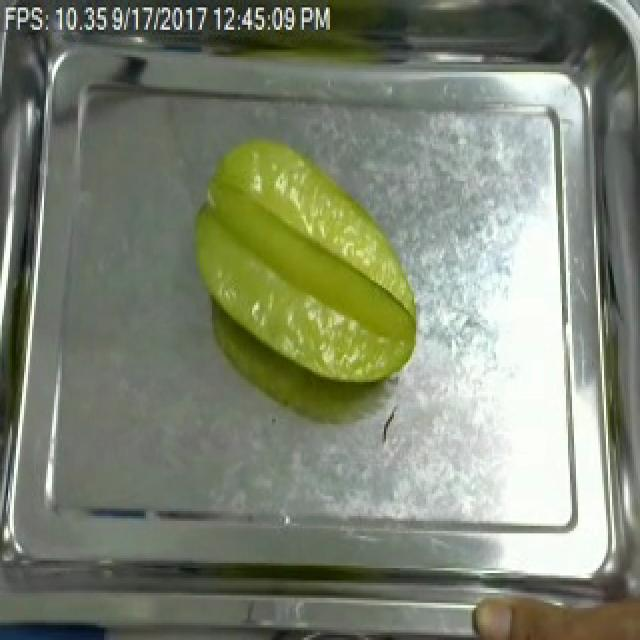fruit: (180, 131, 426, 397), (464, 568, 640, 640)
